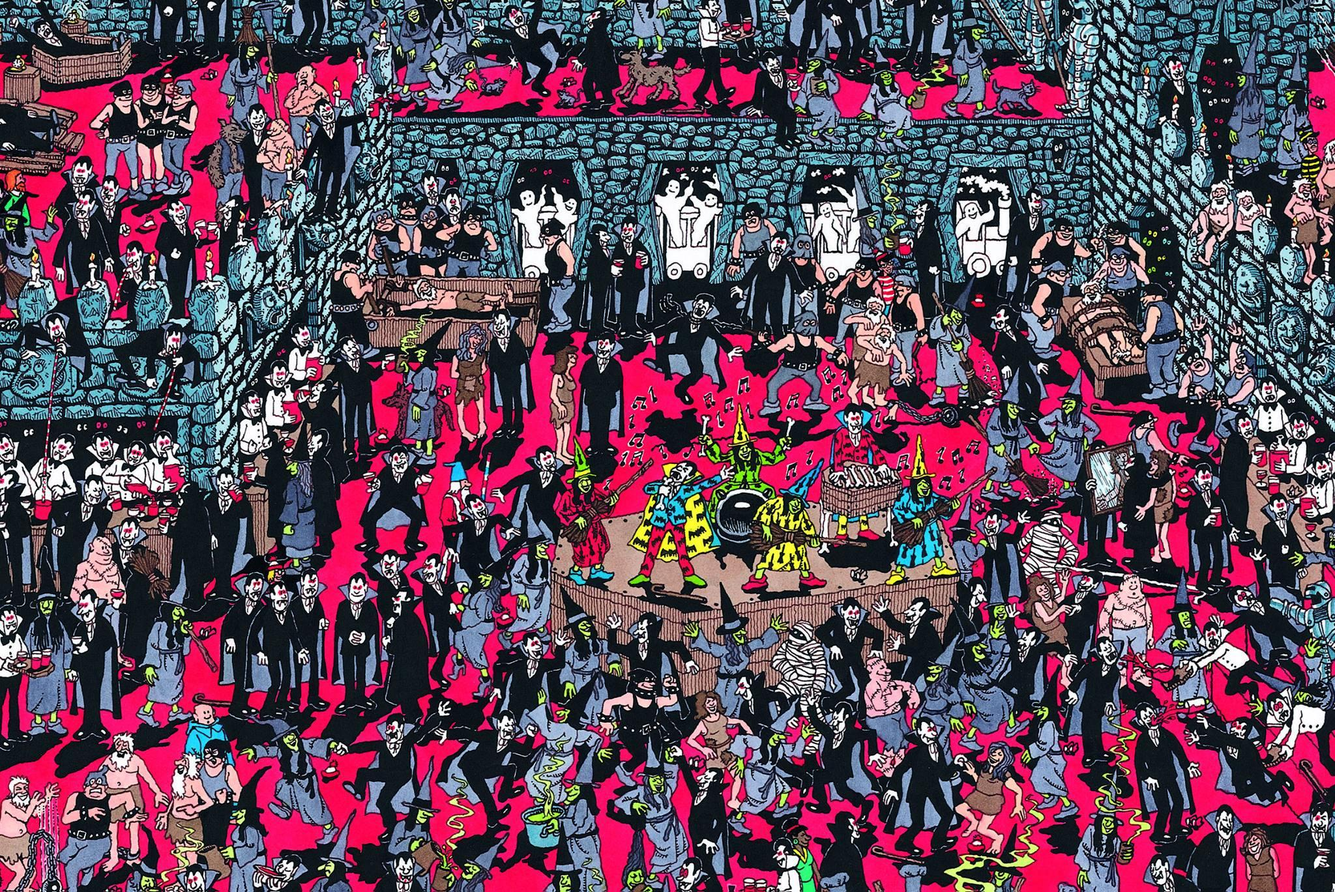waldo: (872, 247, 897, 309)
